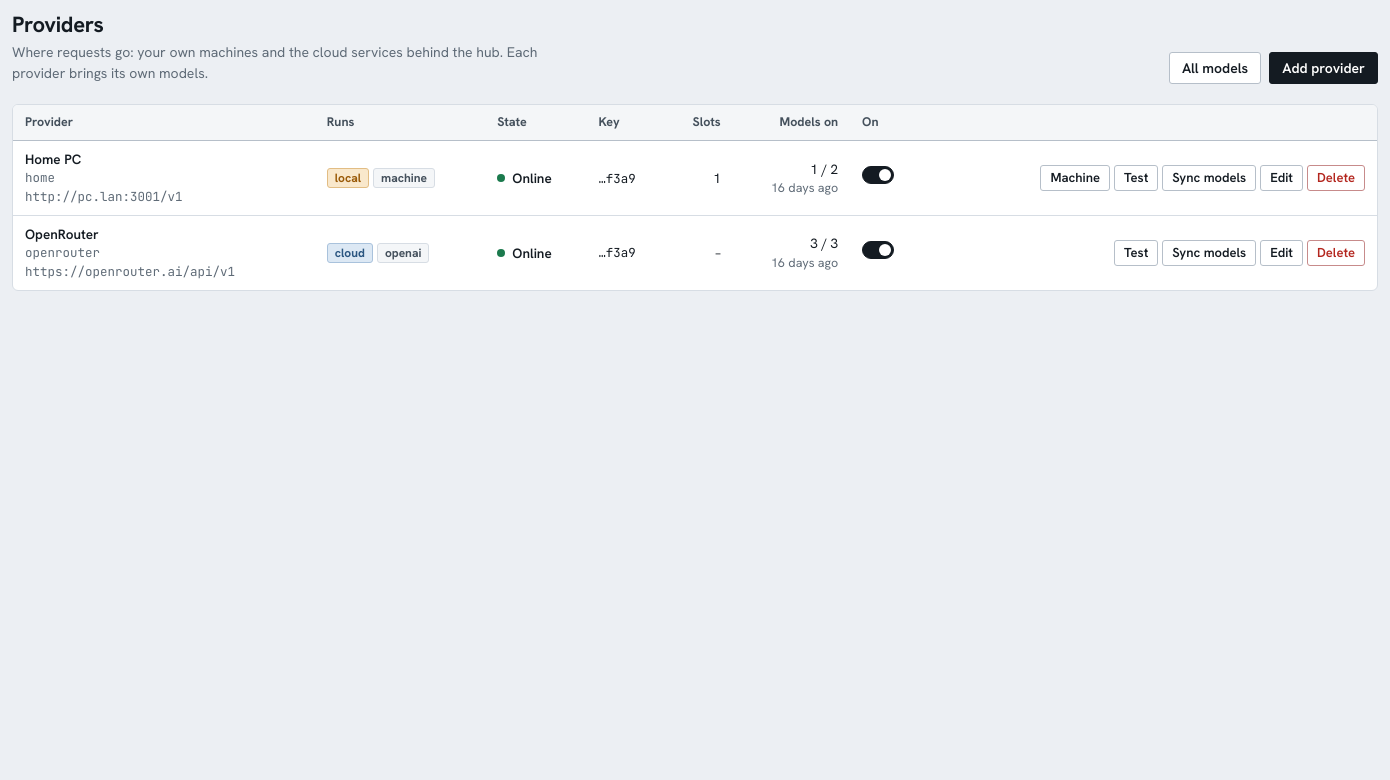
Scenario: providers › syncs the models of a provider and says what changed
The width and height of the screenshot is (1390, 780).
Click the button "Sync models" in the row of "https://openrouter.ai/api/v1" at (1209, 253), box [1162,240,1256,266]
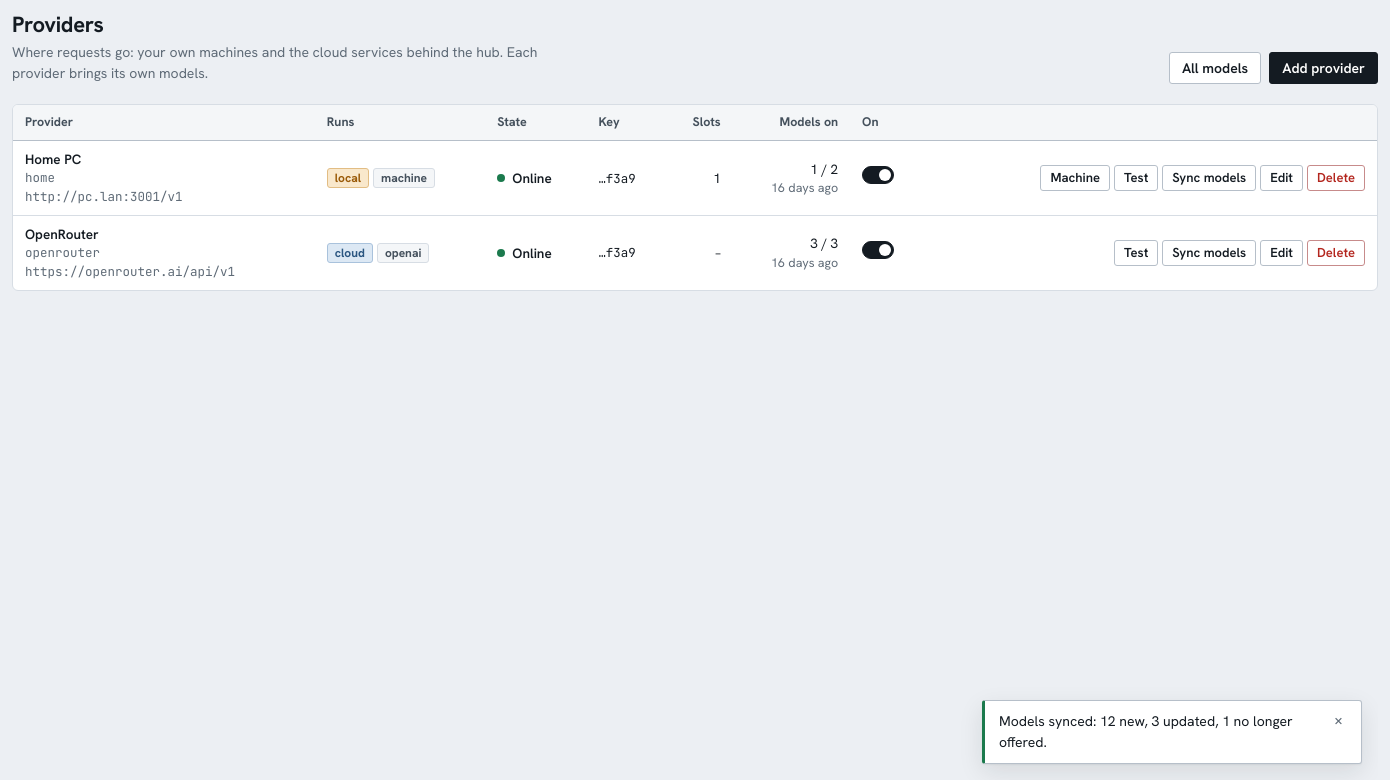
expect the text "Models synced: 12 new, 3 updated, 1 no longer offered." is shown: met, box [999,711,1316,753]
